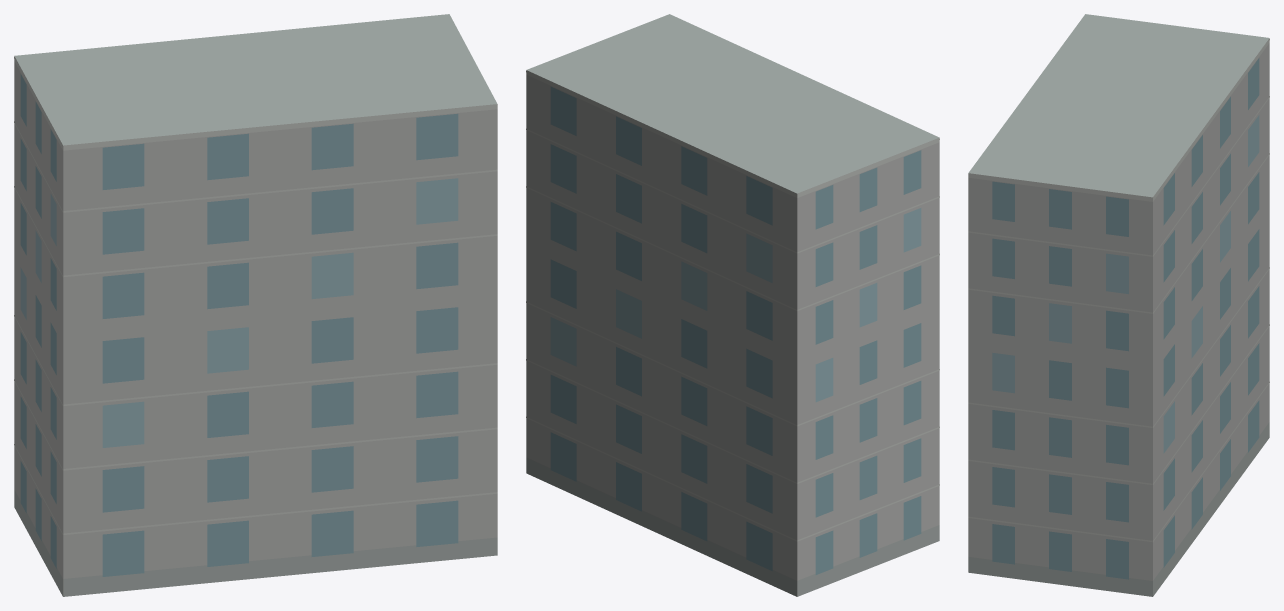
The model's file is survey-upis-32521453.glb.
The picture shows the model from 3 angles, left to right: view 1: azimuth 30°, elevation 25°; view 2: azimuth 150°, elevation 25°; view 3: azimuth 270°, elevation 25°; orthographic projection. The views are drawn at different scales.
Parts seen in each view (by area): view 1: survey-upis-32521453.tmp; view 2: survey-upis-32521453.tmp; view 3: survey-upis-32521453.tmp.
Part boxes in pixels (x1,y1,x2,y2): survey-upis-32521453.tmp: (14, 14, 497, 596); survey-upis-32521453.tmp: (526, 14, 939, 596); survey-upis-32521453.tmp: (968, 14, 1269, 596).
Bounding box in the file's own units: 21.04 × 21.35 × 14.63.
